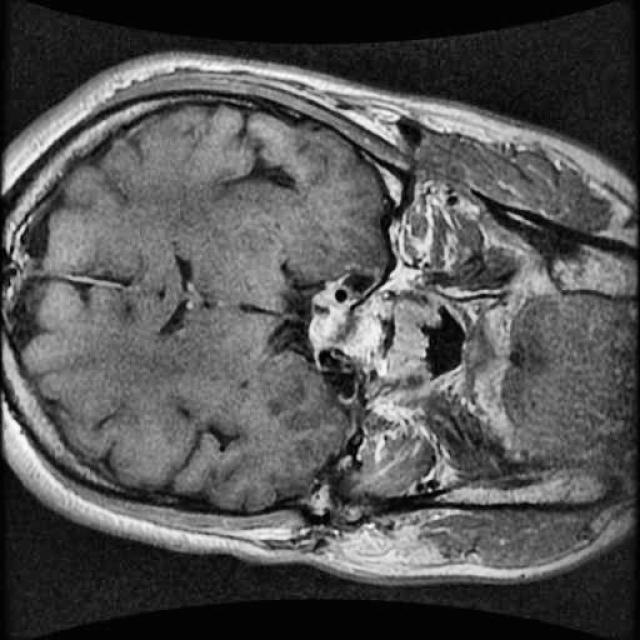Tumor: (302, 270, 371, 365)
